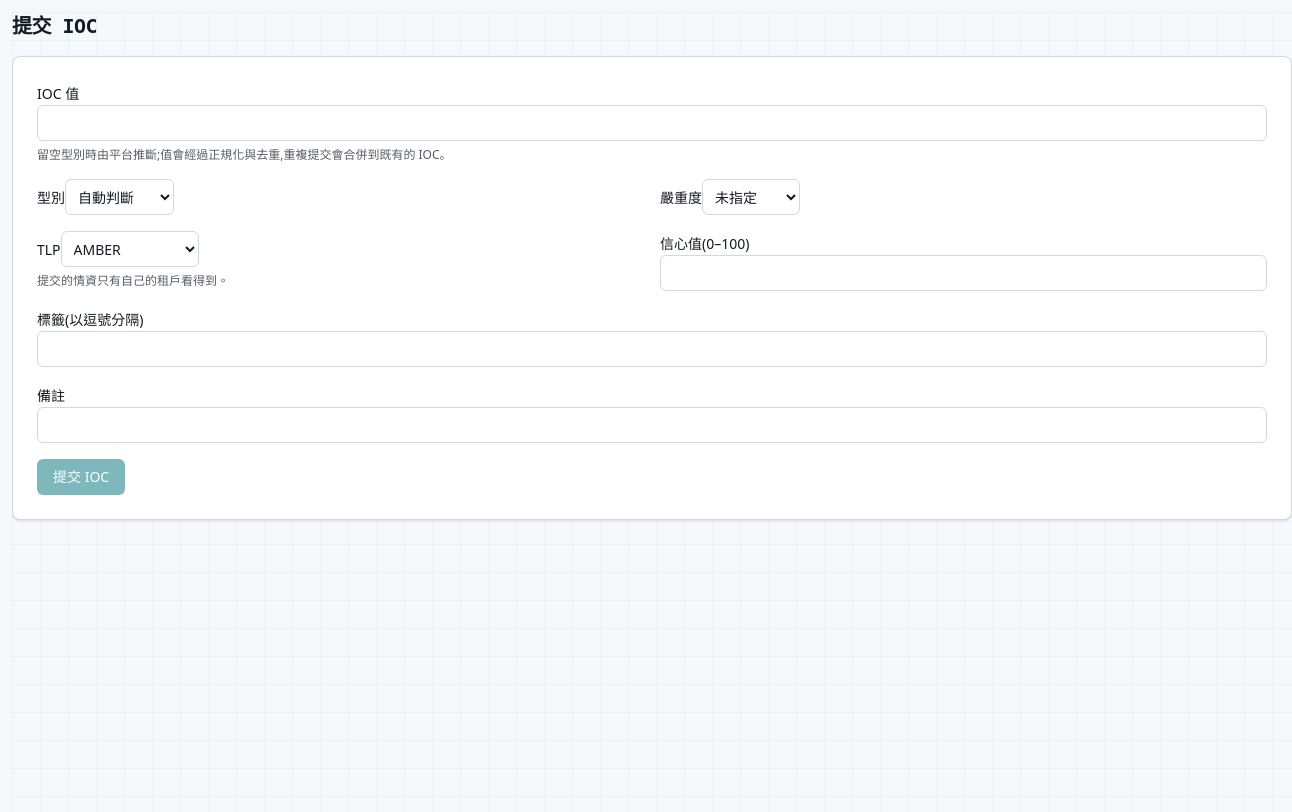
IocSubmitPage › 提交成功後給出可點進詳情的確認,而不是只說「已送出」
This screenshot has width=1292, height=812.
Step 1. Type "203.0.113.5" into the field labelled "IOC 值" → coordinates (652, 123), box [37,105,1267,141]
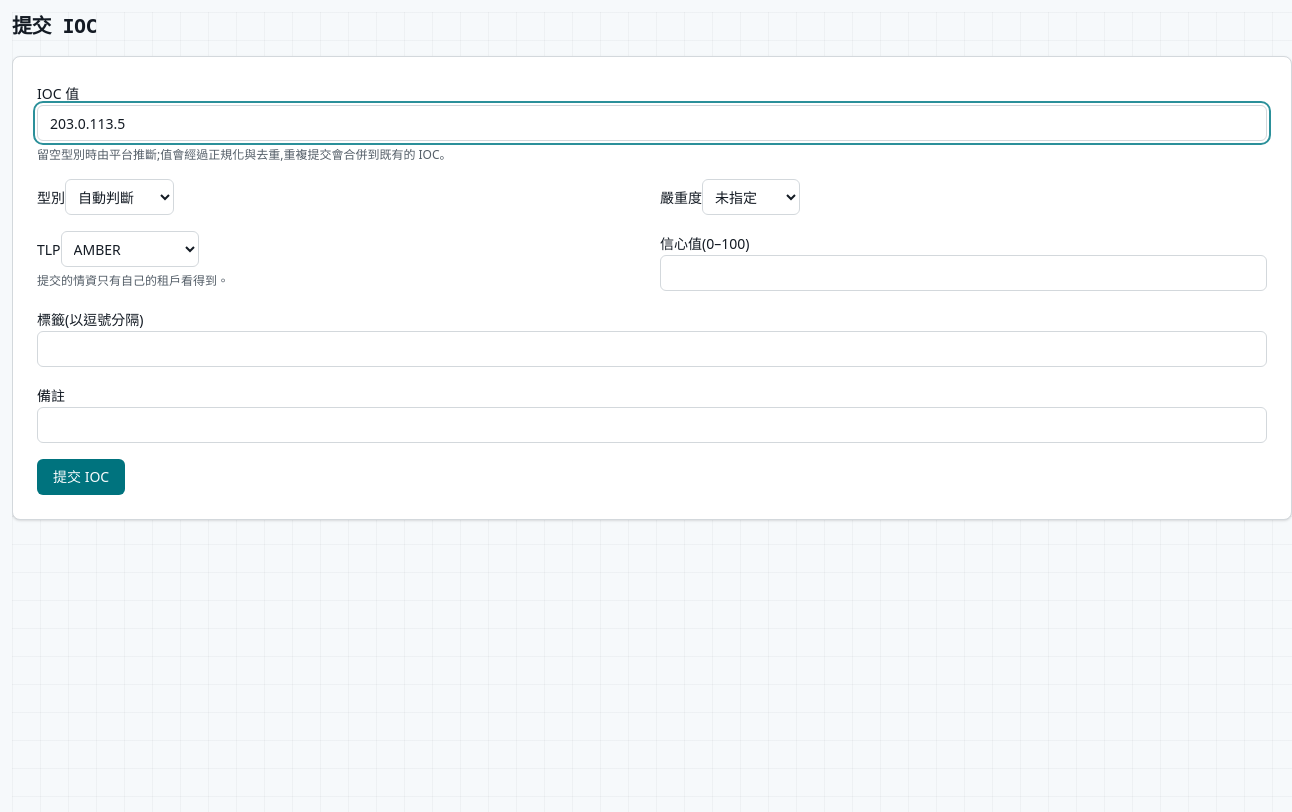
Step 2. Click the button "提交 IOC" → coordinates (81, 477), box [37,459,125,495]
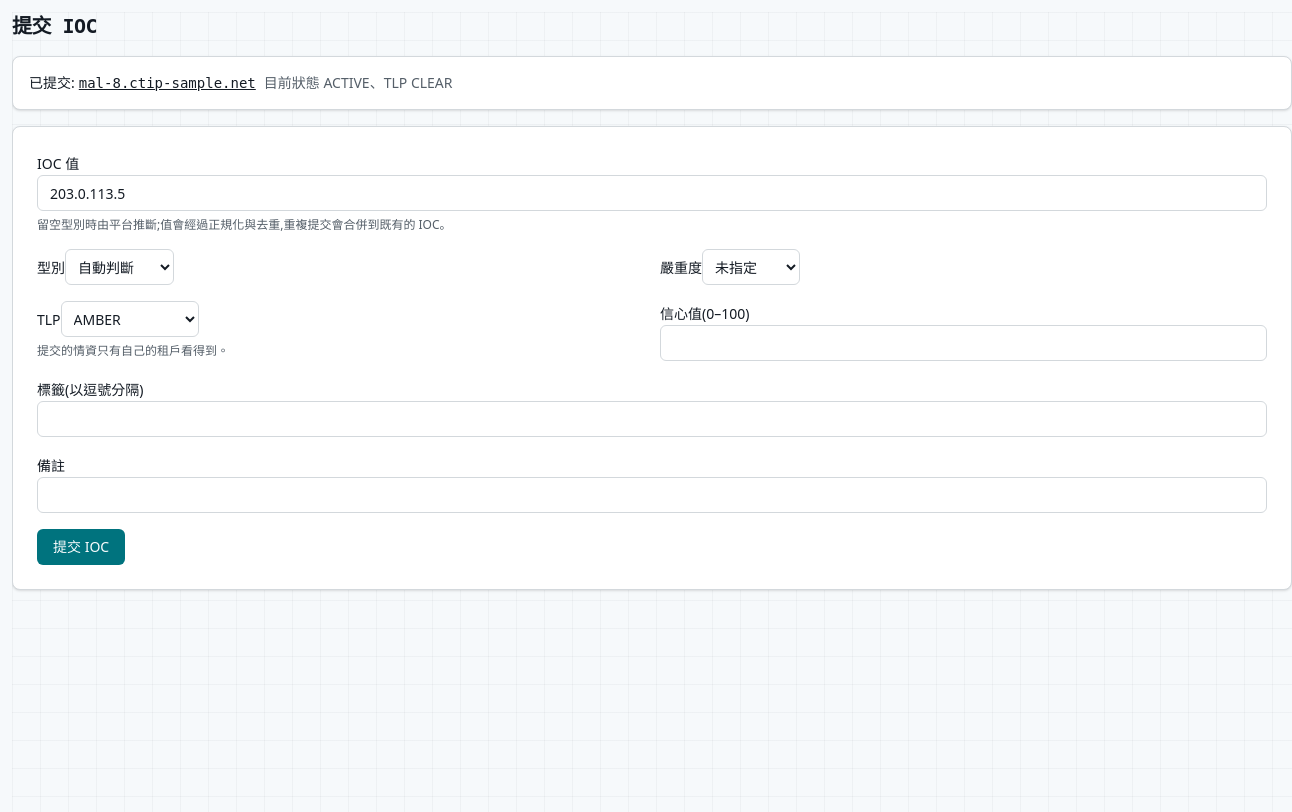
Check: the message shows "mal-8.ctip-sample.net", box [79,75,256,91]
